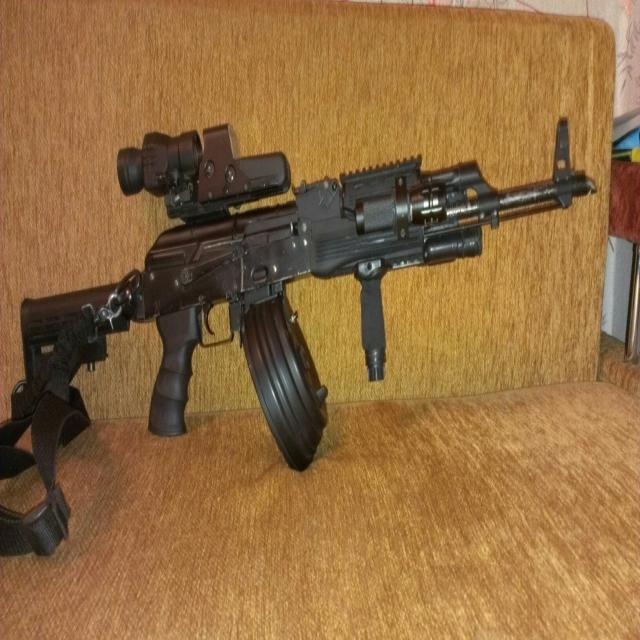firearm: (17, 120, 599, 473)
